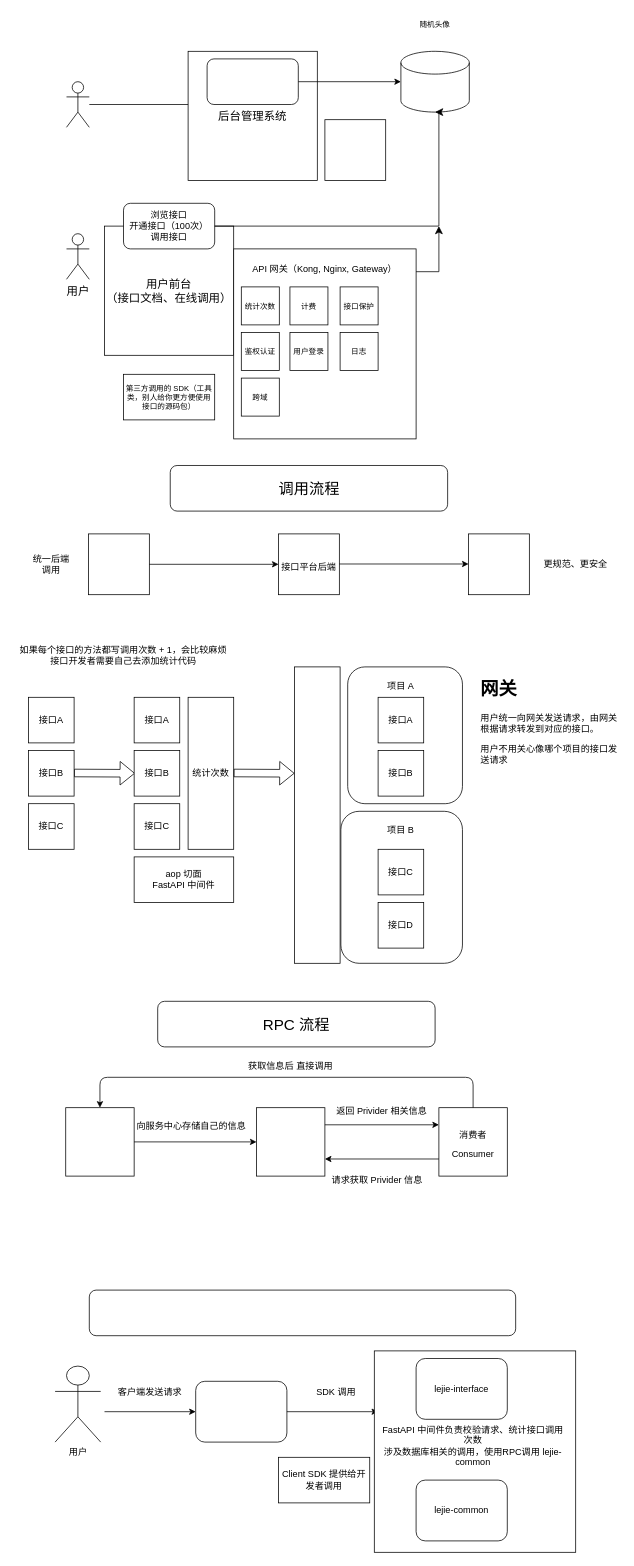
The diagram is 634 pixels wide and 1566 high, and some of its shapes have lost their labels. The centre of each missing label's shape, as x and y in pixels:
"lejie-backend" belongs at [241,1411].
"前端" belongs at [118,564].
"发布接口 下线接口 接口设置" belongs at [252,81].
"基于 Python - FastAPI 框架的《乐接-API开放平台》整体设计" belongs at [302,1312].
"提供者 Privider" belongs at [99,1141].
"数据库" belongs at [434,81].
"模拟接口" belongs at [498,564].
"注册中心 存储" belongs at [290,1141].
"管理员" belongs at [77,104].
"统计分析" belongs at [355,149].
"网关 统计次数" belongs at [317,814].
